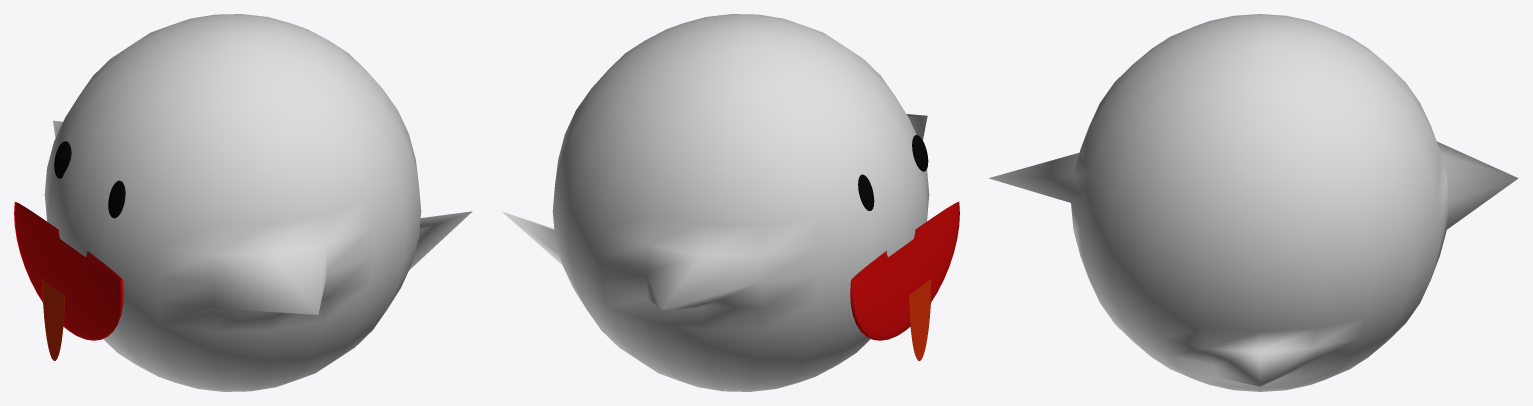
Rendered from obake.fbx.
The picture shows the model from 3 angles, left to right: view 1: azimuth 30°, elevation 25°; view 2: azimuth 150°, elevation 25°; view 3: azimuth 270°, elevation 25°; orthographic projection.
Parts seen in each view (by area): view 1: pSphere1, pSphere3, pSphere4, pasted__pSphere2, pSphere2; view 2: pSphere1, pSphere3, pSphere4, pasted__pSphere2, pSphere2; view 3: pSphere1.
Boxes of the visible parts, left/top/right/bottom form: pSphere1: left=44, top=14, right=472, bottom=391; pSphere3: left=14, top=202, right=123, bottom=340; pSphere4: left=42, top=279, right=64, bottom=360; pasted__pSphere2: left=108, top=180, right=125, bottom=218; pSphere2: left=54, top=141, right=71, bottom=178; pSphere1: left=501, top=14, right=929, bottom=391; pSphere3: left=850, top=202, right=959, bottom=340; pSphere4: left=909, top=279, right=931, bottom=360; pasted__pSphere2: left=912, top=135, right=928, bottom=171; pSphere2: left=858, top=174, right=874, bottom=210; pSphere1: left=989, top=14, right=1518, bottom=391.
Size of the model in its own units: 11.55 by 9.03 by 12.67.
